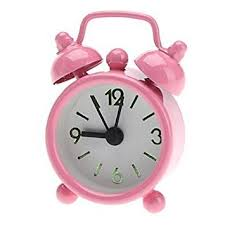alarm_clock: (36, 7, 186, 210), (36, 11, 186, 210)
